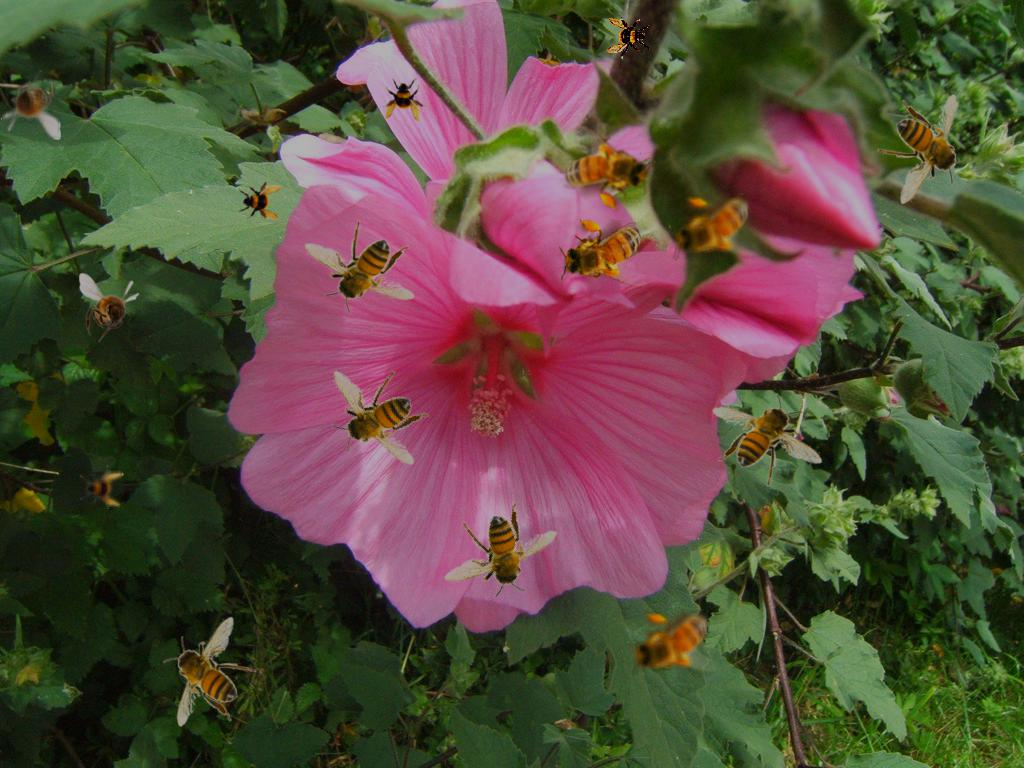Bee: (425, 480, 570, 626), (305, 348, 446, 480), (547, 118, 663, 223), (712, 393, 823, 487), (163, 616, 257, 727), (877, 94, 971, 205), (304, 220, 415, 314), (554, 213, 656, 292), (669, 193, 762, 261), (628, 609, 721, 677), (0, 70, 61, 140), (79, 273, 140, 343), (80, 465, 124, 509), (383, 78, 427, 122), (238, 178, 282, 222), (606, 16, 650, 60)
